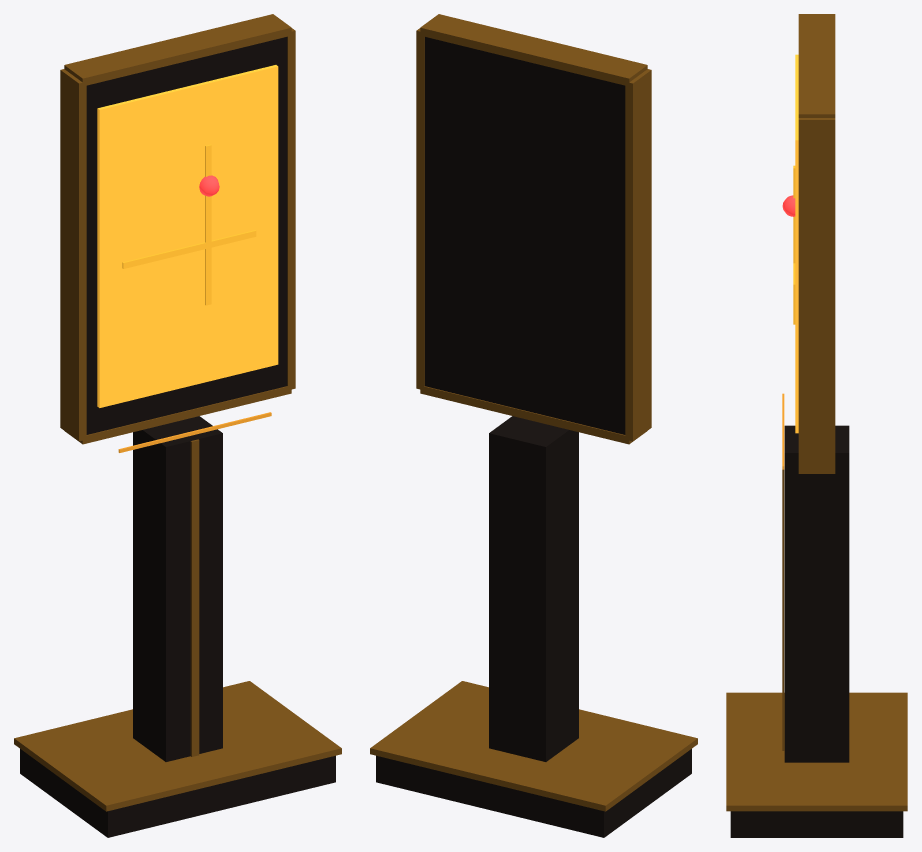
The model's file is map-kiosk.glb.
The picture shows the model from 3 angles, left to right: view 1: azimuth 30°, elevation 25°; view 2: azimuth 150°, elevation 25°; view 3: azimuth 270°, elevation 25°; orthographic projection.
Parts seen in each view (by area): view 1: map-kiosk; view 2: map-kiosk; view 3: map-kiosk.
Part boxes in pixels (x1,y1,x2,y2): map-kiosk: (14, 14, 341, 837); map-kiosk: (370, 14, 697, 837); map-kiosk: (726, 14, 907, 837).
Size of the model in its own units: 0.62 by 1.84 by 0.42.
